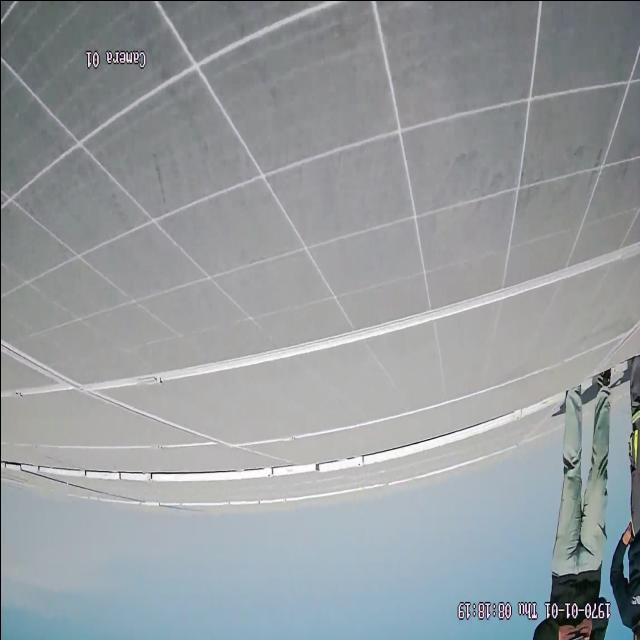interior panel: (0, 236, 638, 441)
